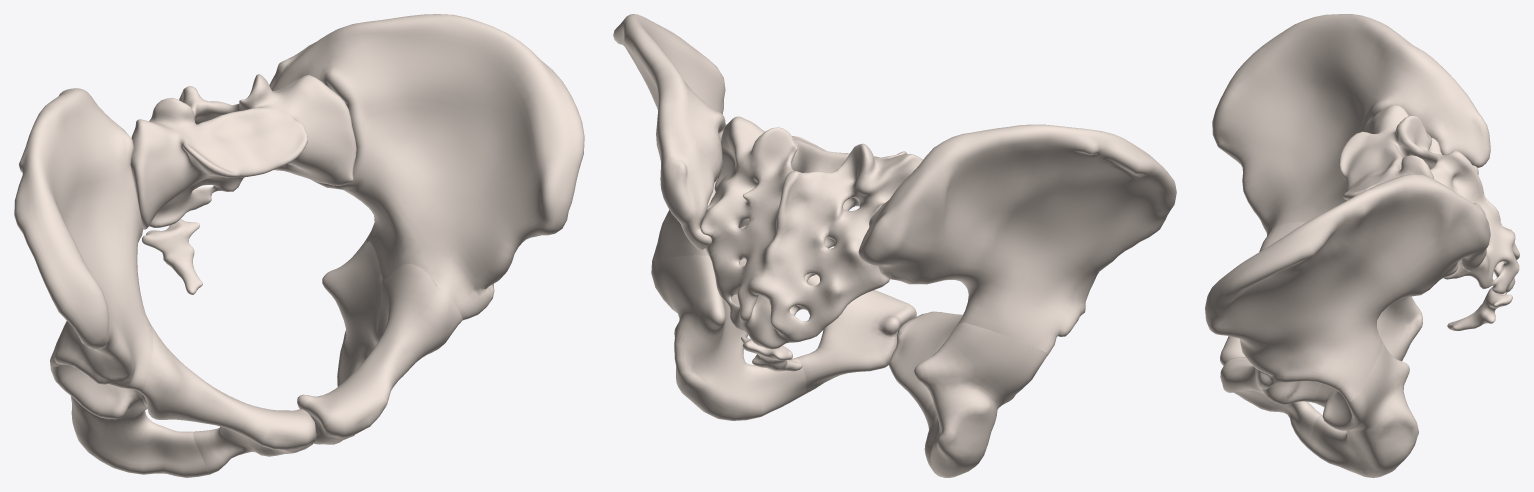
Rendered from pelvis-female.glb.
The picture shows the model from 3 angles, left to right: view 1: azimuth 30°, elevation 25°; view 2: azimuth 150°, elevation 25°; view 3: azimuth 270°, elevation 25°; orthographic projection. The views are drawn at different scales.
Parts seen in each view (by area): view 1: VH_F_ilium_compact_bone_L, VH_F_ilium_compact_bone_R, VH_F_sacrum, VH_F_pubis_compact_bone_L, VH_F_pubis_compact_bone_R, VH_F_ischium_compact_bone_R, VH_F_ischium_compact_bone_L, VH_F_coccyx; view 2: VH_F_ilium_compact_bone_R, VH_F_sacrum, VH_F_ilium_compact_bone_L, VH_F_ischium_compact_bone_L, VH_F_ischium_compact_bone_R, VH_F_pubis_compact_bone_L, VH_F_pubis_compact_bone_R, VH_F_coccyx; view 3: VH_F_ilium_compact_bone_L, VH_F_ilium_compact_bone_R, VH_F_sacrum, VH_F_ischium_compact_bone_L, VH_F_pubis_compact_bone_L, VH_F_ischium_compact_bone_R, VH_F_coccyx, VH_F_pubis_compact_bone_R.
Boxes of the visible parts, <box> form: VH_F_ilium_compact_bone_L: <box>269,14,584,320</box>; VH_F_ilium_compact_bone_R: <box>14,88,153,392</box>; VH_F_sacrum: <box>130,74,356,229</box>; VH_F_pubis_compact_bone_L: <box>297,263,462,444</box>; VH_F_pubis_compact_bone_R: <box>140,325,316,474</box>; VH_F_ischium_compact_bone_R: <box>50,362,209,477</box>; VH_F_ischium_compact_bone_L: <box>322,239,382,436</box>; VH_F_coccyx: <box>142,219,202,294</box>; VH_F_ilium_compact_bone_R: <box>858,124,1176,354</box>; VH_F_sacrum: <box>700,116,922,349</box>; VH_F_ilium_compact_bone_L: <box>613,14,745,260</box>; VH_F_ischium_compact_bone_L: <box>651,255,806,420</box>; VH_F_ischium_compact_bone_R: <box>914,322,1048,477</box>; VH_F_pubis_compact_bone_L: <box>740,258,916,393</box>; VH_F_pubis_compact_bone_R: <box>889,311,962,420</box>; VH_F_coccyx: <box>741,336,802,371</box>; VH_F_ilium_compact_bone_L: <box>1205,174,1490,401</box>; VH_F_ilium_compact_bone_R: <box>1212,14,1490,235</box>; VH_F_sacrum: <box>1339,105,1519,294</box>; VH_F_ischium_compact_bone_L: <box>1307,341,1418,477</box>; VH_F_pubis_compact_bone_L: <box>1220,357,1322,447</box>; VH_F_ischium_compact_bone_R: <box>1377,296,1422,361</box>; VH_F_coccyx: <box>1447,287,1512,330</box>; VH_F_pubis_compact_bone_R: <box>1220,222,1305,365</box>.
Bounding box in the file's own units: 0.3168 × 0.2115 × 0.1827.
